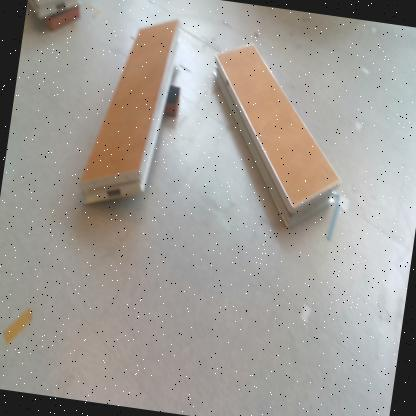Stairs: (212, 40, 343, 230), (82, 20, 179, 208), (28, 1, 79, 22)
